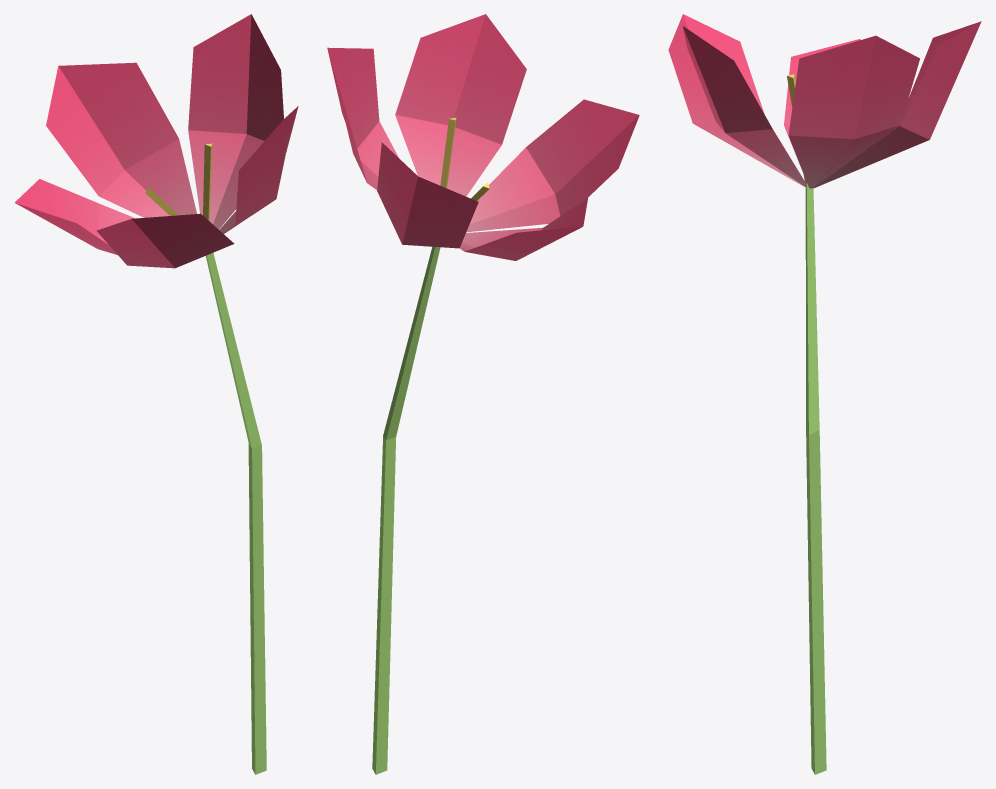
Rendered from Flower_f_TwoS_04.fbx.
3 views of the same model, side by side, from view 1: azimuth 30°, elevation 25°; view 2: azimuth 150°, elevation 25°; view 3: azimuth 270°, elevation 25° (orthographic). The views are drawn at different scales.
Visible parts, largest first — view 1: Flower_f_TwoS_04; view 2: Flower_f_TwoS_04; view 3: Flower_f_TwoS_04.
Part boxes in pixels (left/top/right/bottom): Flower_f_TwoS_04: left=14, top=14, right=298, bottom=774; Flower_f_TwoS_04: left=327, top=14, right=639, bottom=774; Flower_f_TwoS_04: left=668, top=14, right=981, bottom=774.
Bounding box in the file's own units: 0.216 × 0.6155 × 0.234.
